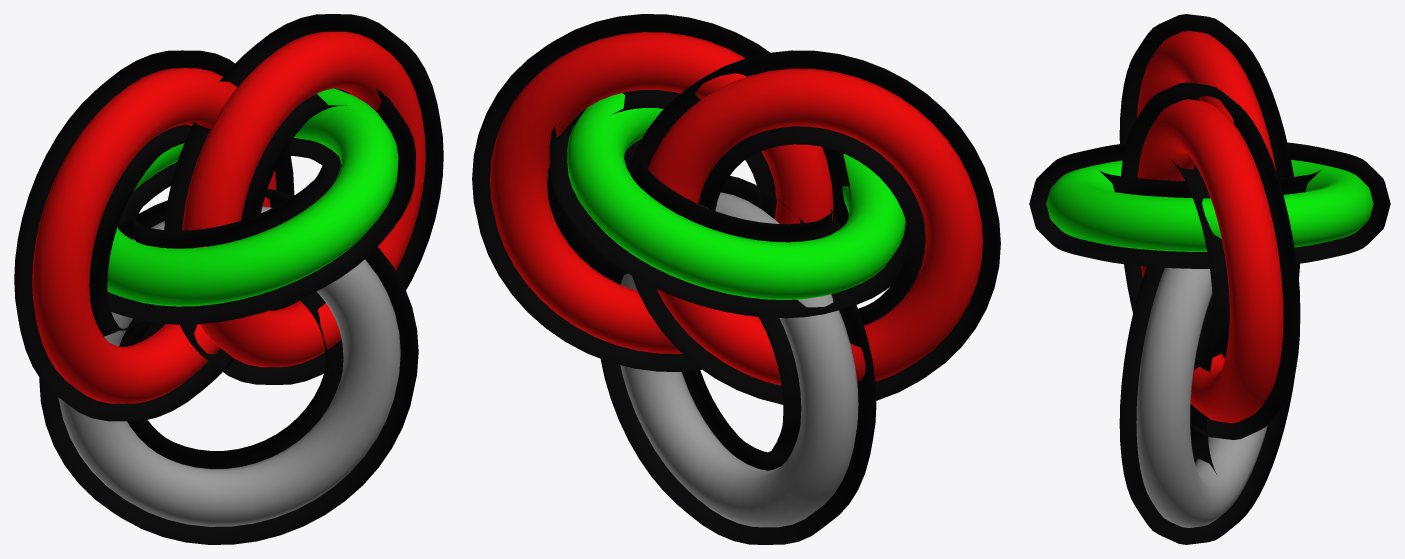
The model's file is charmed_step_03.glb.
3 renders of one model, left to right at view 1: azimuth 30°, elevation 25°; view 2: azimuth 150°, elevation 25°; view 3: azimuth 270°, elevation 25°, orthographic. The views are drawn at different scales.
Parts seen in each view (by area): view 1: Torus.1267, Torus.1265, Torus.1266, Torus.1268; view 2: Torus.1265, Torus.1266, Torus.1267, Torus.1268; view 3: Torus.1266, Torus.1267, Torus.1268, Torus.1265.
Part boxes in pixels (box(x1,y1,x2,y2)): Torus.1267: box(39, 189, 418, 544); Torus.1265: box(14, 50, 294, 421); Torus.1266: box(164, 14, 443, 384); Torus.1268: box(97, 88, 415, 324); Torus.1265: box(628, 50, 1000, 404); Torus.1266: box(472, 14, 850, 371); Torus.1267: box(600, 176, 876, 544); Torus.1268: box(549, 93, 917, 318); Torus.1266: box(1121, 82, 1300, 439); Torus.1267: box(1119, 266, 1300, 544); Torus.1268: box(1029, 142, 1390, 268); Torus.1265: box(1119, 14, 1299, 280).
Bounding box in the file's own units: 2.97 × 3.02 × 2.12.
